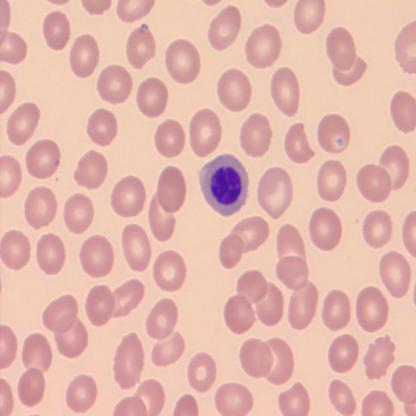NRC: (196, 151, 251, 221)
